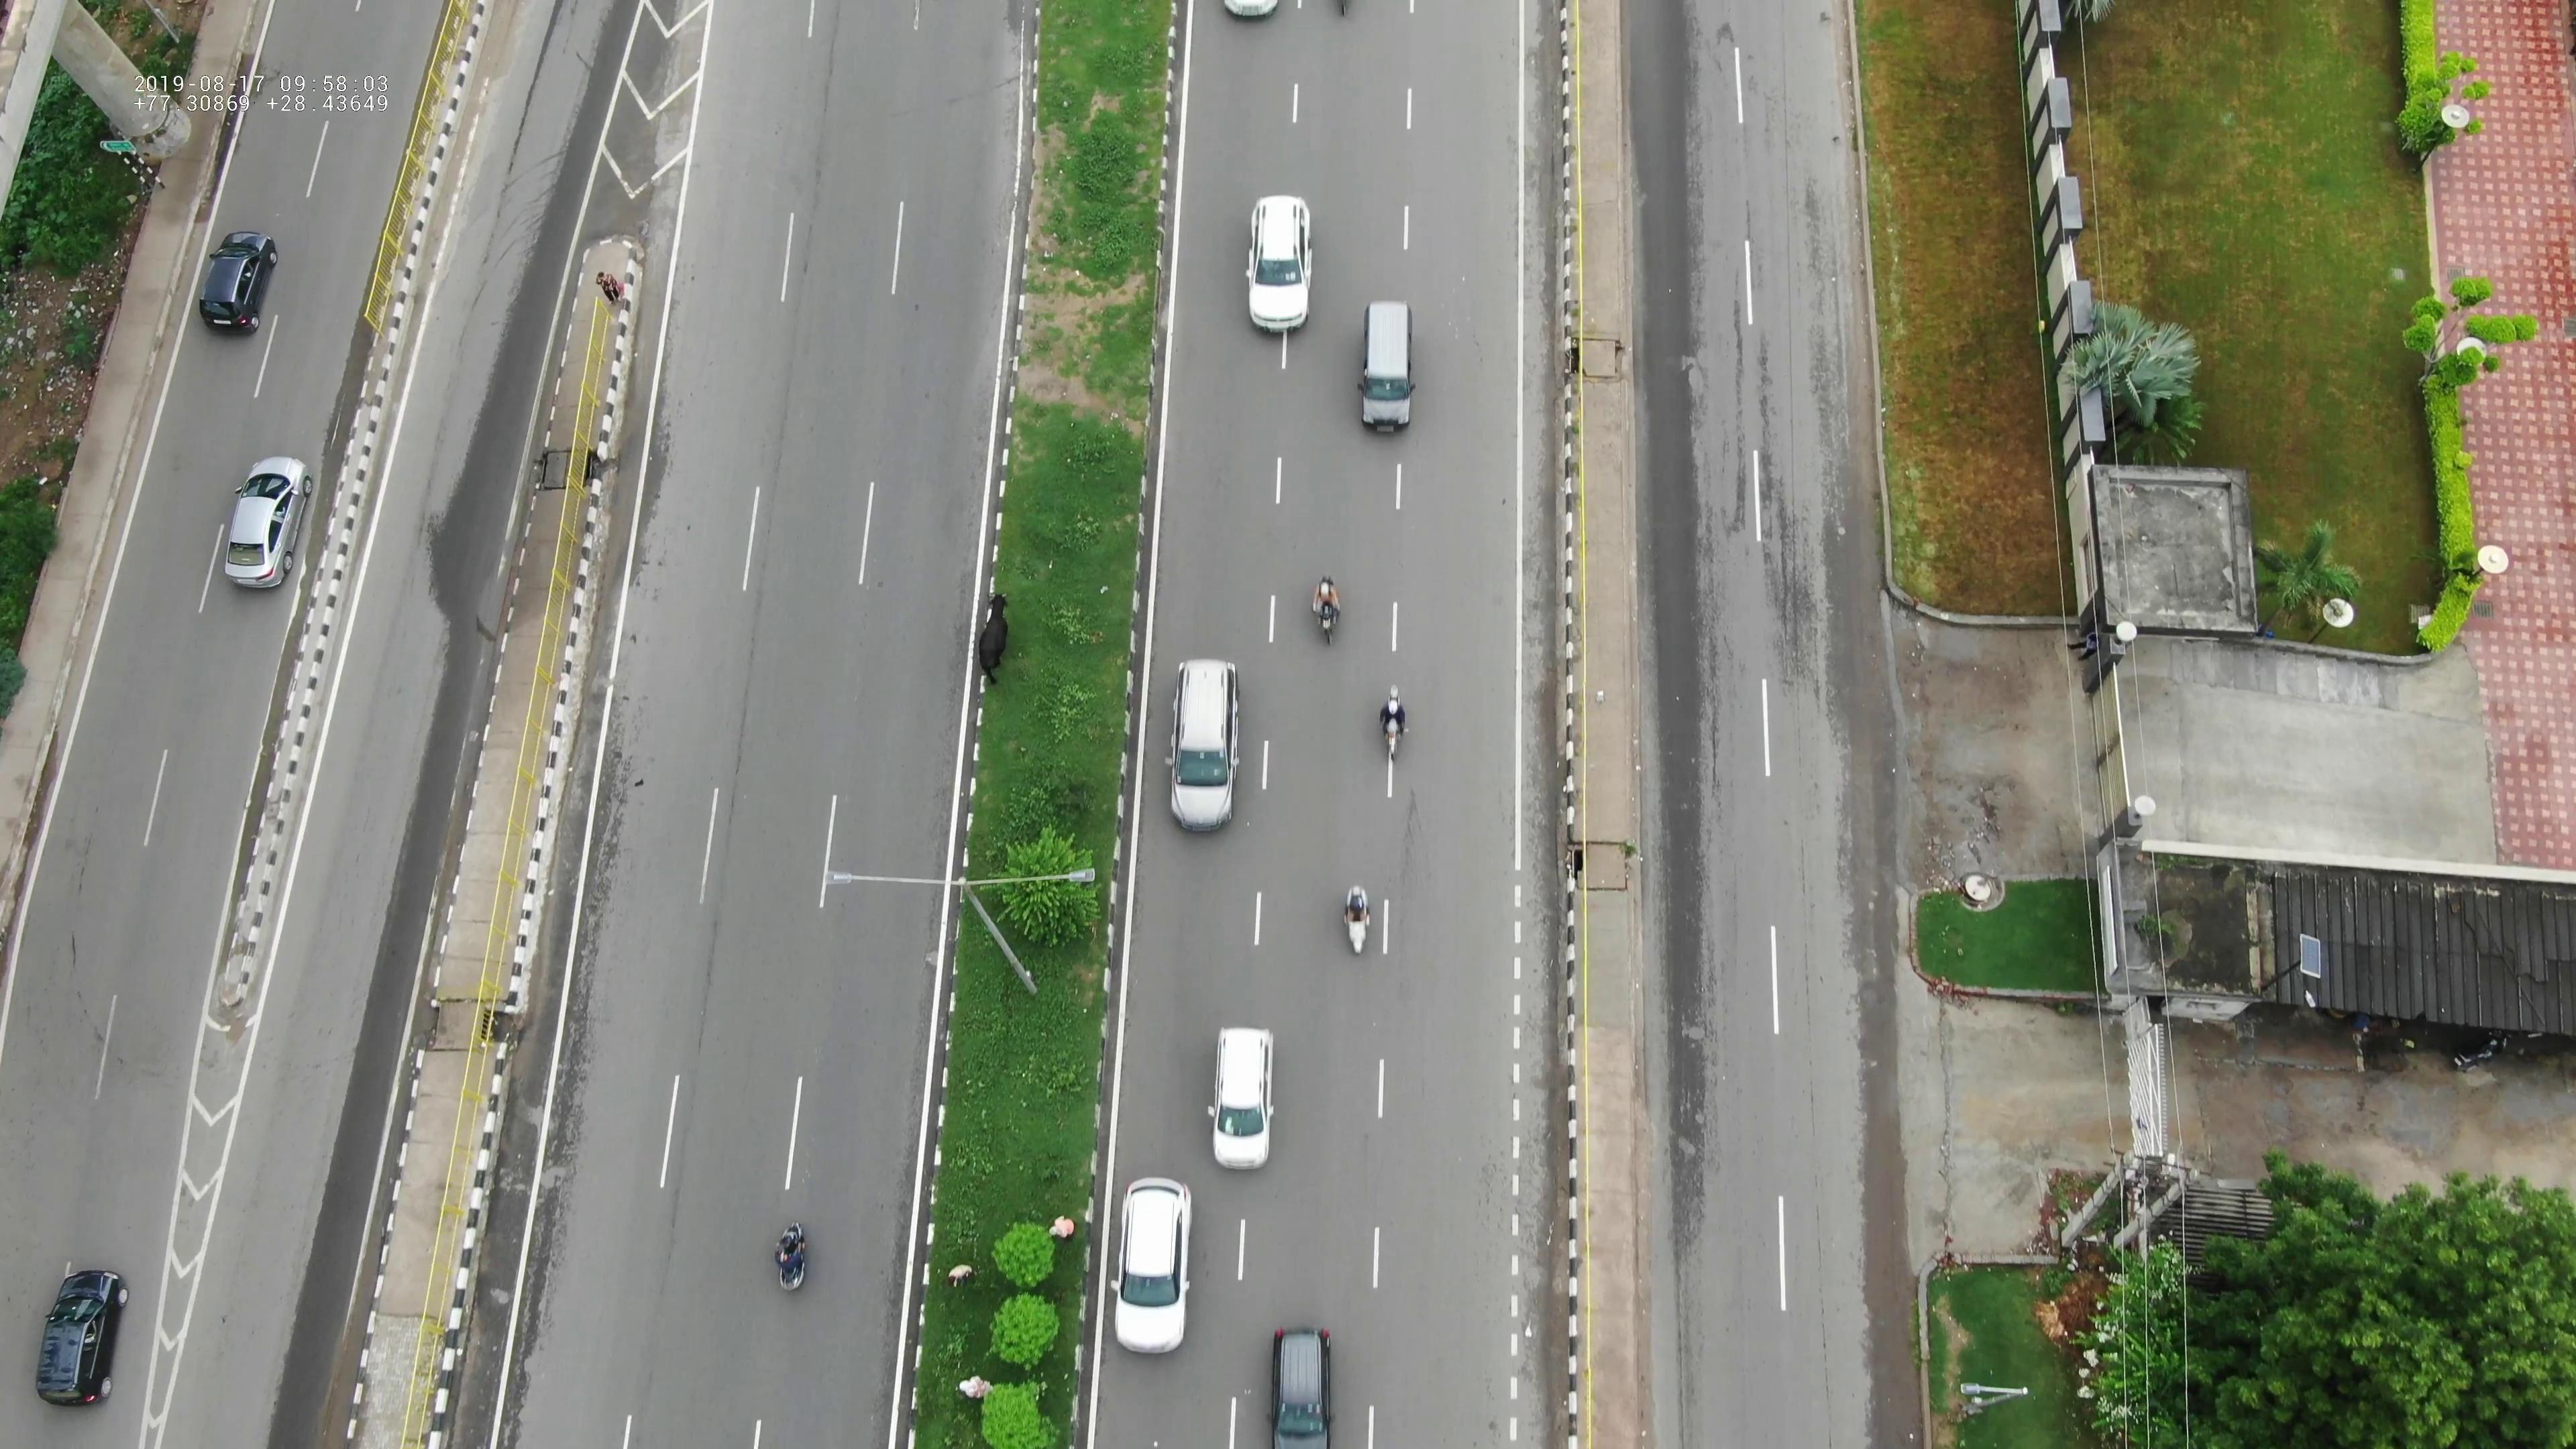Ravelling: (1683, 249, 1824, 686)
